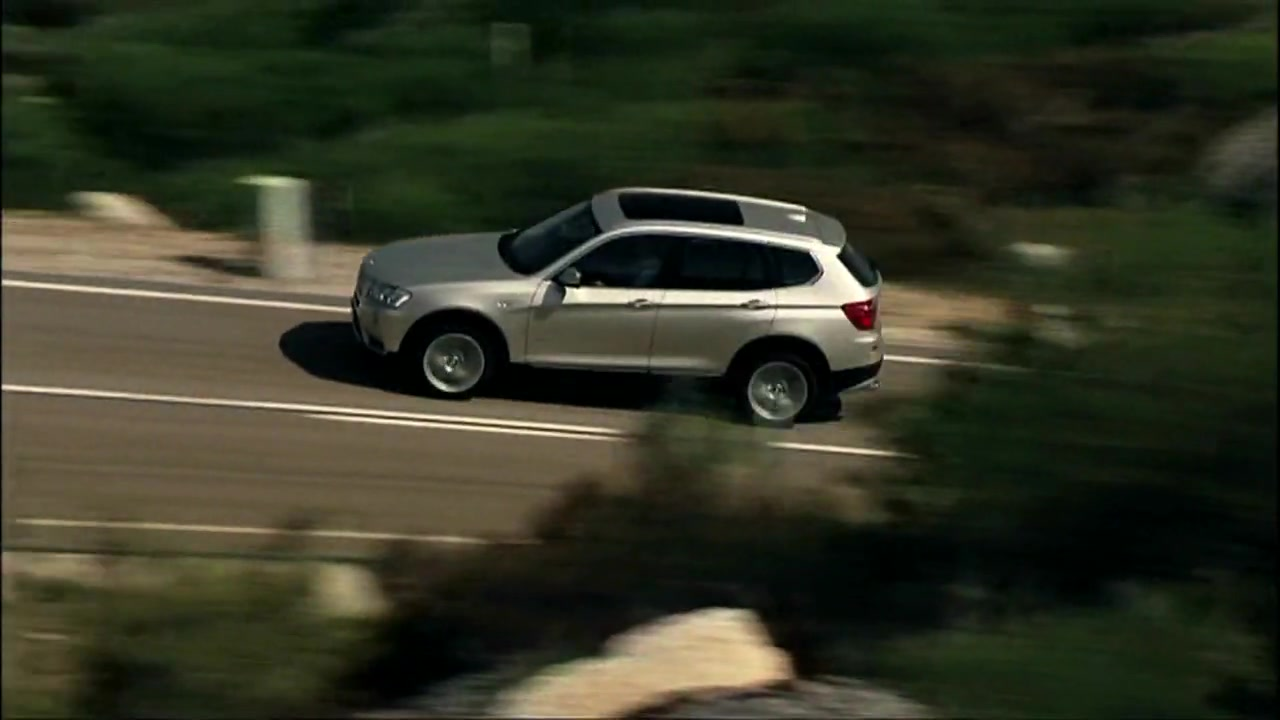car: (349, 181, 891, 427)
